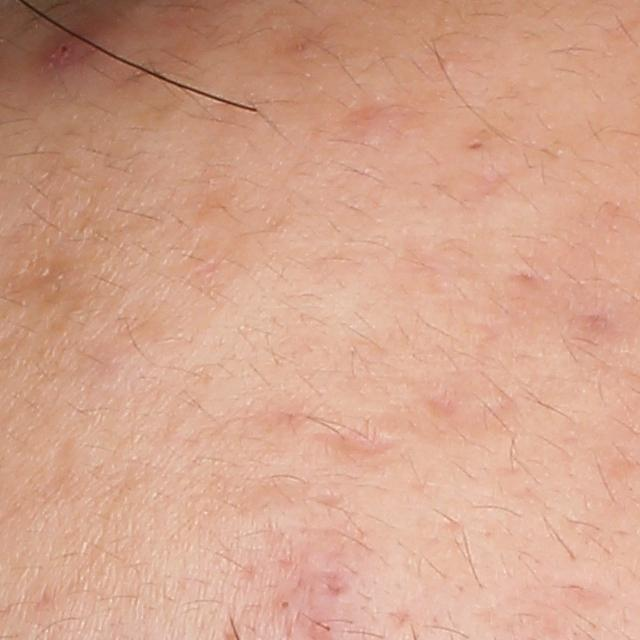atrophic_scar: (404, 377, 472, 424), (314, 427, 397, 457), (309, 565, 357, 596)
comedo: (459, 138, 492, 152), (278, 597, 292, 612)
papule: (41, 32, 87, 68)
